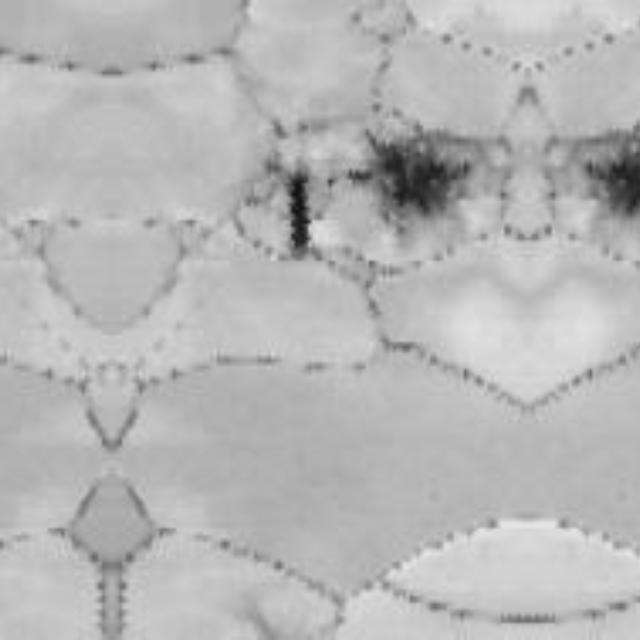good_void: (366, 121, 475, 233), (583, 121, 640, 223), (287, 172, 312, 254), (345, 165, 372, 187), (325, 175, 336, 188)
